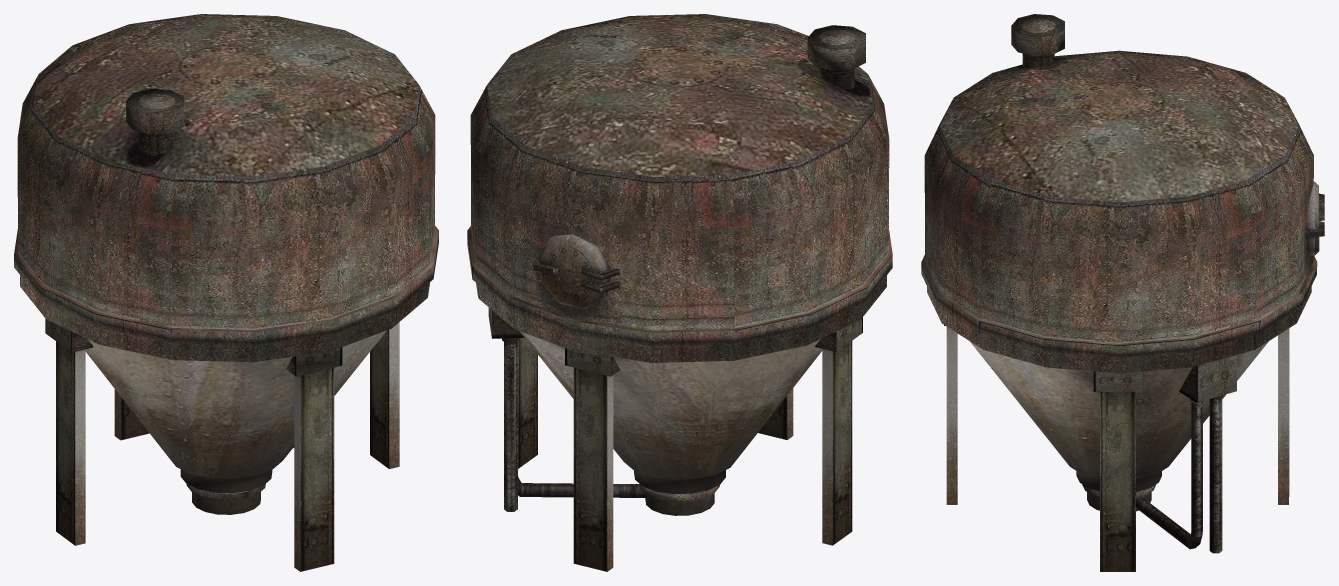
Rendered from coolingtank01.glb.
3 renders of one model, left to right at view 1: azimuth 30°, elevation 25°; view 2: azimuth 150°, elevation 25°; view 3: azimuth 270°, elevation 25°, orthographic. The views are drawn at different scales.
Visible parts, largest first — view 1: 0_coolingtank01; view 2: 0_coolingtank01; view 3: 0_coolingtank01.
Boxes of the visible parts, x1=… form: 0_coolingtank01: x1=14, y1=14, x2=438, y2=571; 0_coolingtank01: x1=467, y1=14, x2=892, y2=571; 0_coolingtank01: x1=921, y1=14, x2=1324, y2=571.
Bounding box in the file's own units: 5.07 × 5.98 × 5.16.
1 material, 1 textured.
